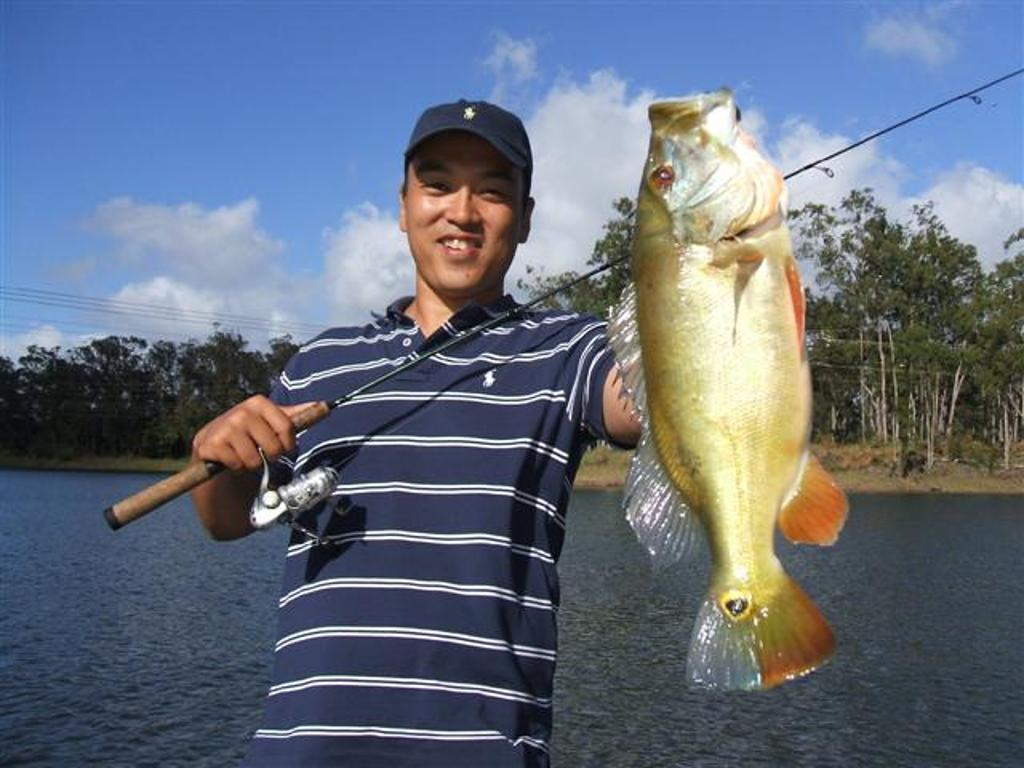face: (405, 141, 527, 291)
